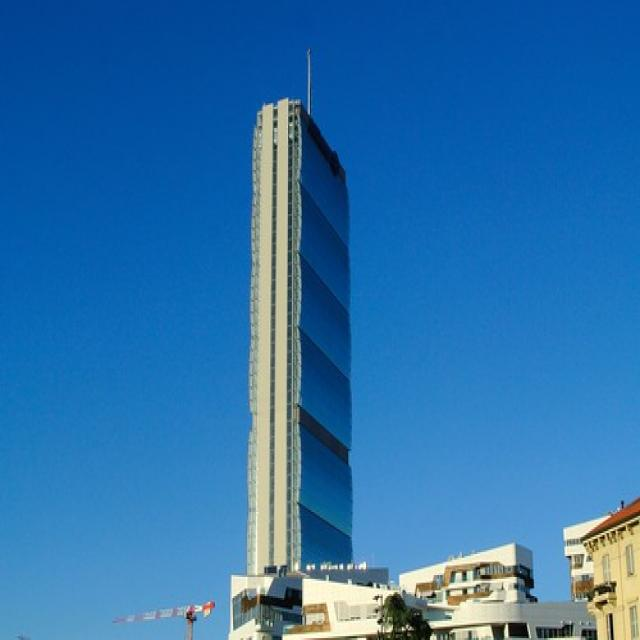Normal_building: (242, 88, 358, 575)
